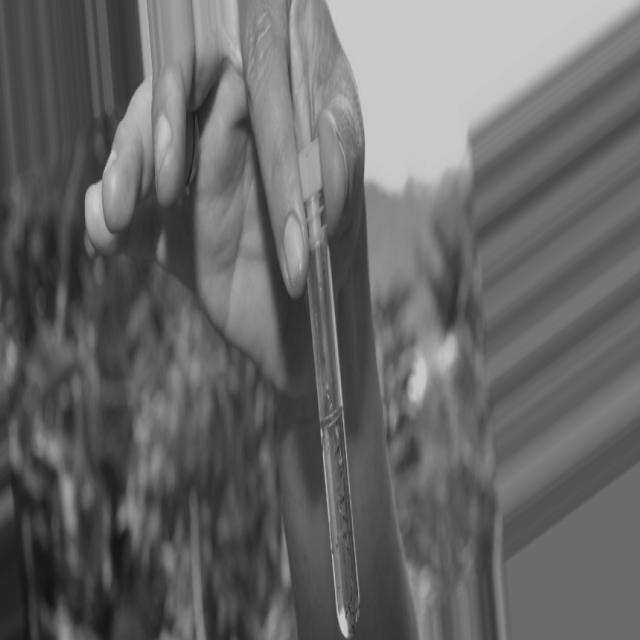larvas: (344, 586, 354, 621), (336, 430, 344, 465), (337, 497, 347, 520), (350, 606, 357, 630), (335, 540, 349, 552), (337, 470, 342, 489), (336, 531, 347, 537)
